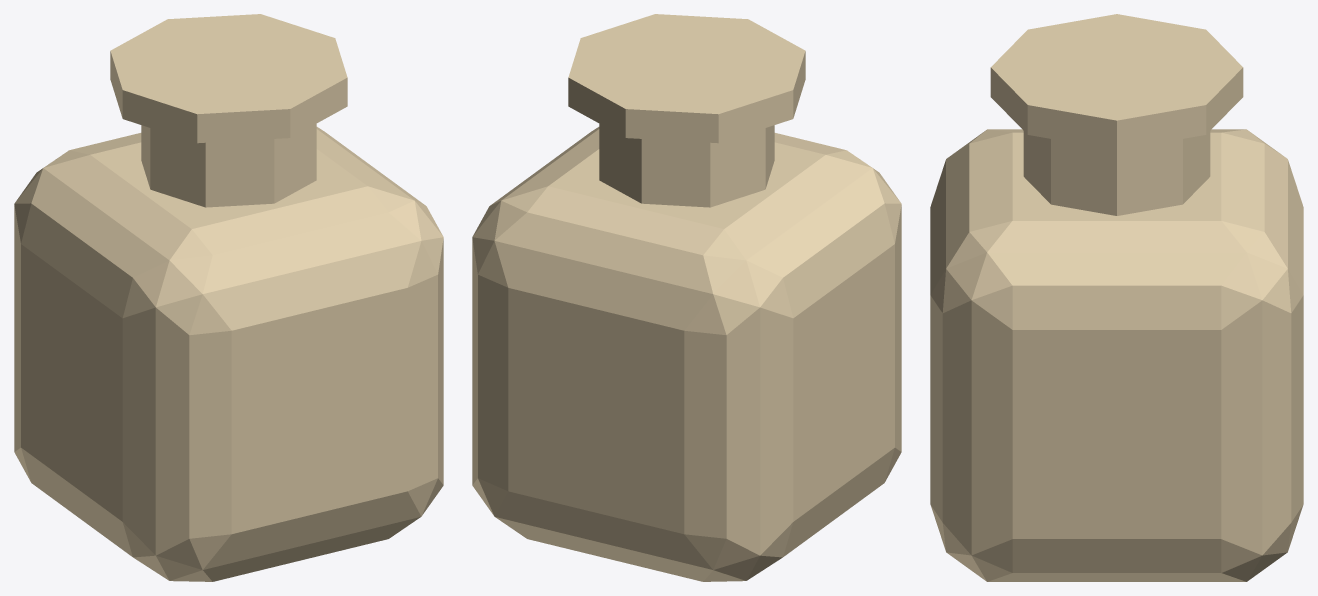
The model's file is jar_b.glb.
3 renders of one model, left to right at view 1: azimuth 30°, elevation 25°; view 2: azimuth 150°, elevation 25°; view 3: azimuth 270°, elevation 25°, orthographic. The views are drawn at different scales.
Parts seen in each view (by area): view 1: root_m0, root_m2, root_m1; view 2: root_m0, root_m2, root_m1; view 3: root_m0, root_m2, root_m1.
Boxes of the visible parts, <box> form: root_m0: <box>14,127,443,581</box>; root_m2: <box>110,14,347,143</box>; root_m1: <box>141,124,316,207</box>; root_m0: <box>472,127,901,581</box>; root_m2: <box>568,14,805,143</box>; root_m1: <box>599,124,774,207</box>; root_m0: <box>930,129,1303,581</box>; root_m2: <box>990,14,1243,150</box>; root_m1: <box>1023,131,1210,215</box>.
Bounding box in the file's own units: 0.2584 × 0.3572 × 0.2584.
